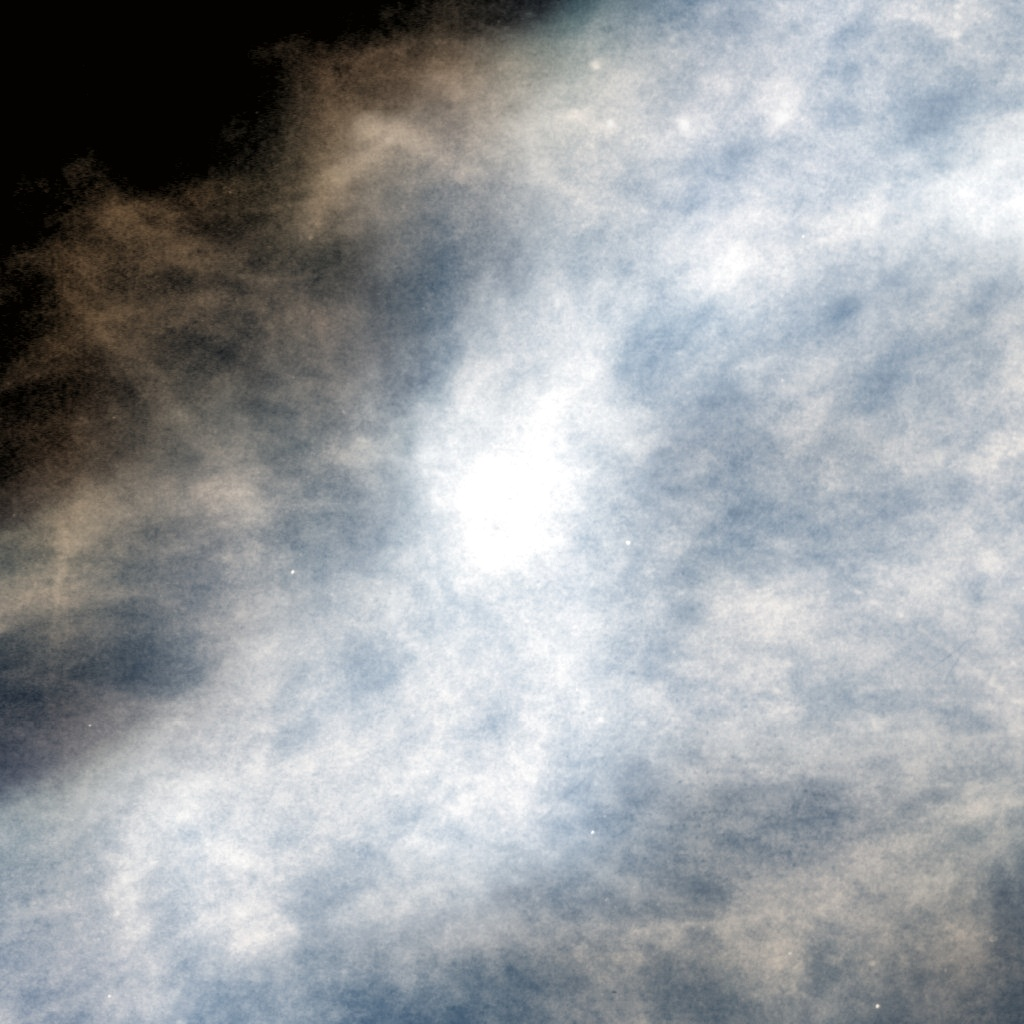tumor: (296, 323, 728, 701)
